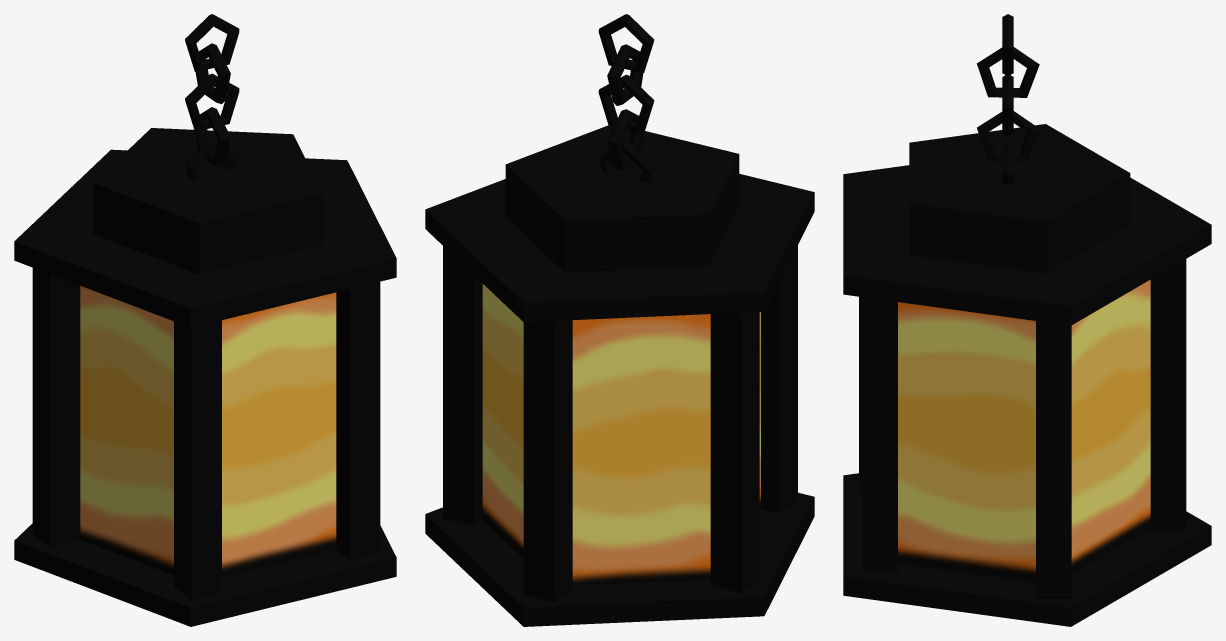
The model's file is Lantern.fbx.
The picture shows the model from 3 angles, left to right: view 1: azimuth 30°, elevation 25°; view 2: azimuth 150°, elevation 25°; view 3: azimuth 270°, elevation 25°; orthographic projection.
Parts seen in each view (by area): view 1: Cylinder, Cylinder.002, Cylinder.003, Cylinder.001, Cube.004, Cube, Cube.003, Torus.004, Torus.002, Torus.001, Torus.003, Torus; view 2: Cylinder, Cylinder.002, Cylinder.003, Cylinder.001, Cube.001, Cube, Cube.002, Cube.004, Torus.004, Torus.002, Torus.001, Torus.003 (+1 smaller); view 3: Cylinder, Cylinder.002, Cylinder.003, Cylinder.001, Cube.002, Cube.003, Cube.001, Torus.003, Torus.001, Cube.004, Torus.004, Torus.002 (+1 smaller).
Part boxes in pixels (box(x1,y1,x2,y2)): Cylinder: box(80, 286, 336, 577); Cylinder.002: box(14, 149, 396, 327); Cylinder.003: box(93, 128, 322, 274); Cylinder.001: box(14, 523, 396, 626); Cube.004: box(174, 320, 221, 599); Cube: box(32, 268, 80, 546); Cube.003: box(336, 281, 380, 559); Torus.004: box(185, 14, 239, 71); Torus.002: box(185, 73, 239, 131); Torus.001: box(195, 107, 230, 167); Torus.003: box(195, 43, 230, 104); Torus: box(185, 138, 239, 179); Cylinder: box(482, 284, 760, 585); Cylinder.002: box(425, 174, 814, 322); Cylinder.003: box(505, 125, 739, 272); Cylinder.001: box(425, 492, 814, 626); Cube.001: box(523, 320, 572, 602); Cube: box(710, 312, 759, 592); Cube.002: box(443, 246, 482, 525); Cube.004: box(761, 245, 797, 513); Torus.004: box(598, 14, 654, 72); Torus.002: box(598, 74, 654, 133); Torus.001: box(607, 109, 643, 170); Torus.003: box(607, 44, 643, 105); Cylinder: box(898, 279, 1150, 582); Cylinder.002: box(843, 165, 1211, 325); Cylinder.003: box(909, 124, 1130, 273); Cylinder.001: box(843, 473, 1211, 626); Cube.002: box(1036, 321, 1071, 598); Cube.003: box(862, 297, 897, 572); Cube.001: box(1150, 259, 1186, 531); Torus.003: box(976, 47, 1039, 97); Torus.001: box(977, 111, 1039, 161); Cube.004: box(859, 296, 862, 494); Torus.004: box(1002, 14, 1013, 76); Torus.002: box(1002, 75, 1013, 135).
Bounding box in the file's own units: 190 × 288 × 181.
